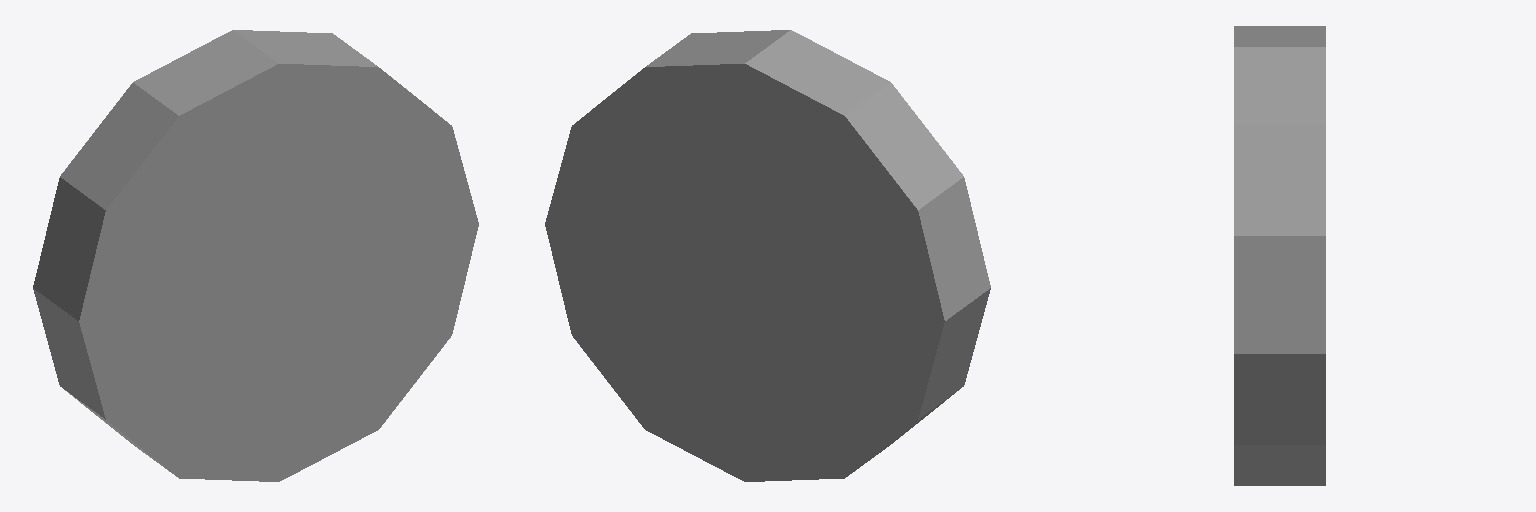
File: coin.obj
3 views of the same model, side by side, from view 1: azimuth 30°, elevation 25°; view 2: azimuth 150°, elevation 25°; view 3: azimuth 270°, elevation 25° (orthographic).
Parts seen in each view (by area): view 1: Circle; view 2: Circle; view 3: Circle.
Part boxes in pixels (left/top/right/bottom): Circle: left=33, top=30, right=478, bottom=481; Circle: left=545, top=30, right=990, bottom=481; Circle: left=1234, top=26, right=1325, bottom=485.
Size of the model in its own units: 2 by 2 by 0.4.